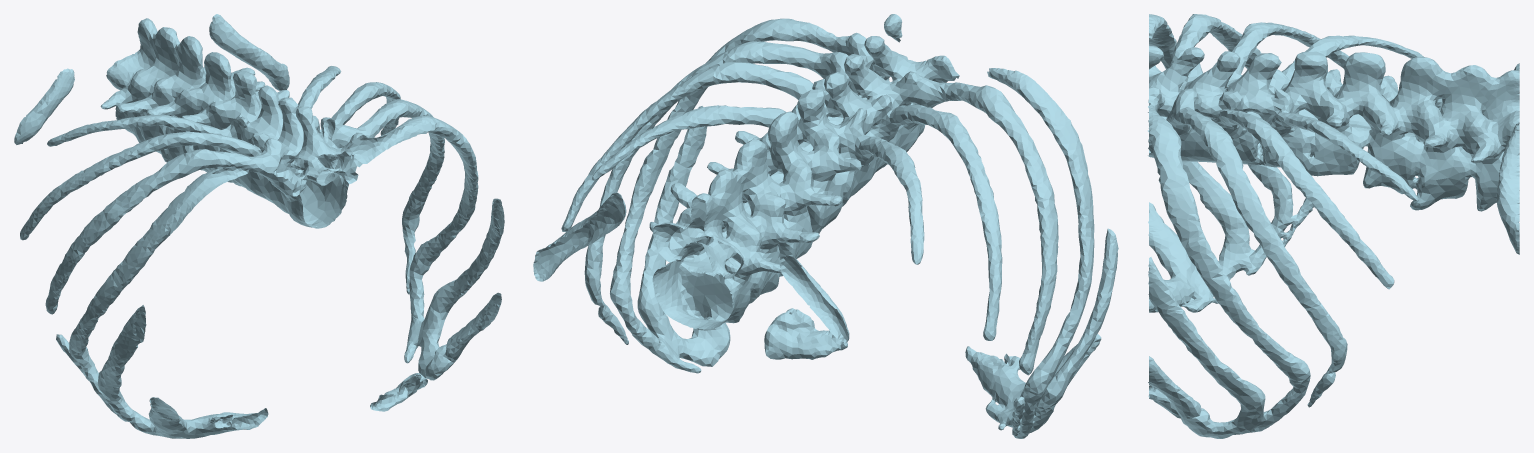
The model's file is bone.obj.
3 renders of one model, left to right at view 1: azimuth 30°, elevation 25°; view 2: azimuth 150°, elevation 25°; view 3: azimuth 270°, elevation 25°, orthographic. The views are drawn at different scales.
Parts seen in each view (by area): view 1: grp1; view 2: grp1; view 3: grp1.
Boxes of the visible parts, x1,y1,x2,y2 form: grp1: (14, 14, 504, 438); grp1: (533, 14, 1118, 438); grp1: (1147, 14, 1519, 438).
Size of the model in its own units: 300 by 232 by 240.
